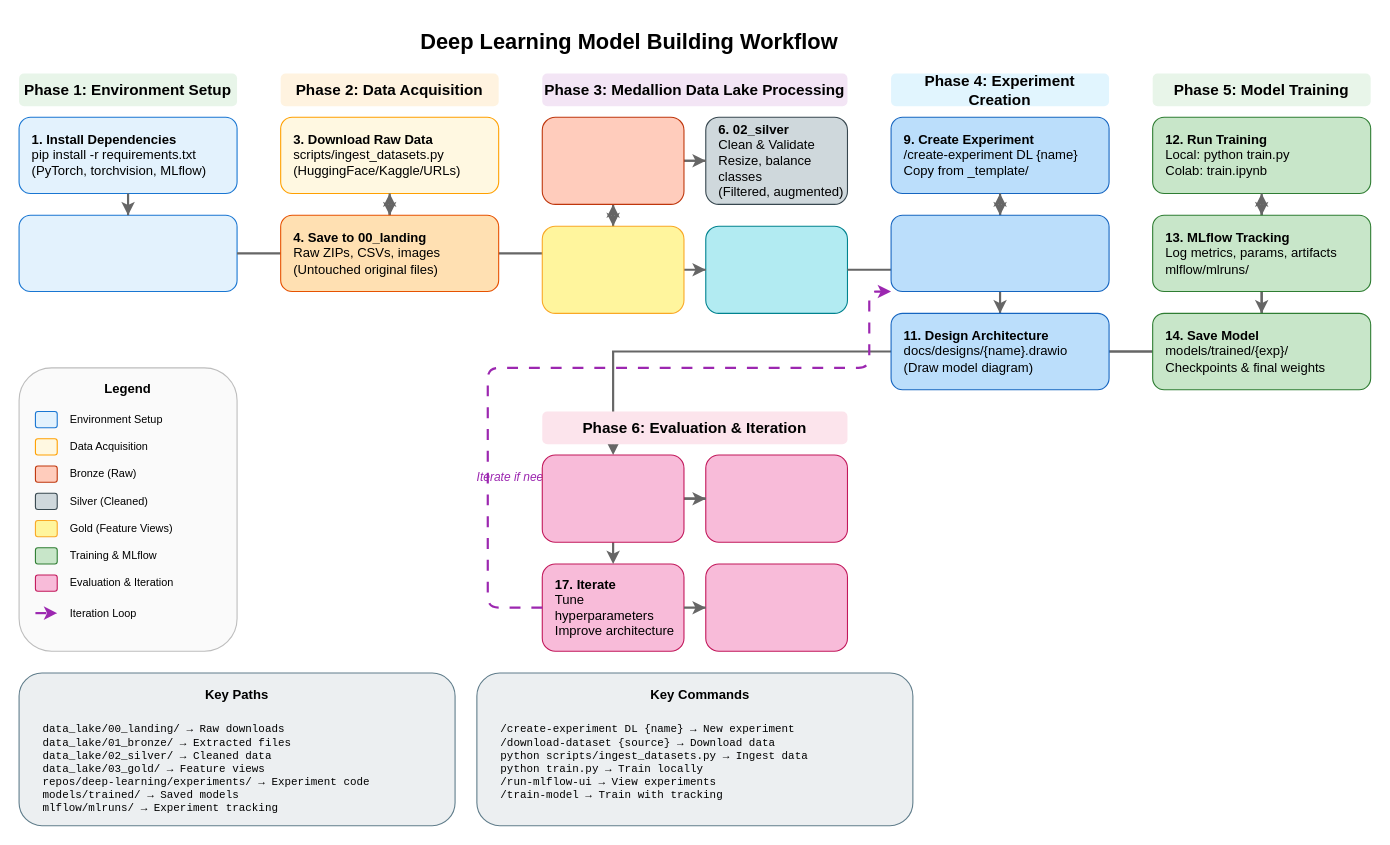
Some shapes in this 1390 by 845 pixel diagram are drawn without their labels. Each missing label, with the centre of its shape:
"10. Configure Experiment config.yaml (dataset, model, hyperparams)" goes at point 999,253.
"15. Evaluate Model Test set metrics Confusion matrix, F1" goes at point 612,498.
"16. MLflow UI Compare experiments /run-mlflow-ui" goes at point 776,498.
"18. 06_inference Production predictions Monitoring logs" goes at point 776,607.
"2. Setup Paths Config config/paths.py (Local vs Colab detection)" goes at point 127,253.
"5. 01_bronze Extract ZIPs Immutable source-of-truth (Read-only raw files)" goes at point 612,160.
"7. 03_gold Feature Views Train/Val/Test splits (Project-specific)" goes at point 612,269.
"8. 05_features Cached embeddings Domain features (Derived data)" goes at point 776,269.
